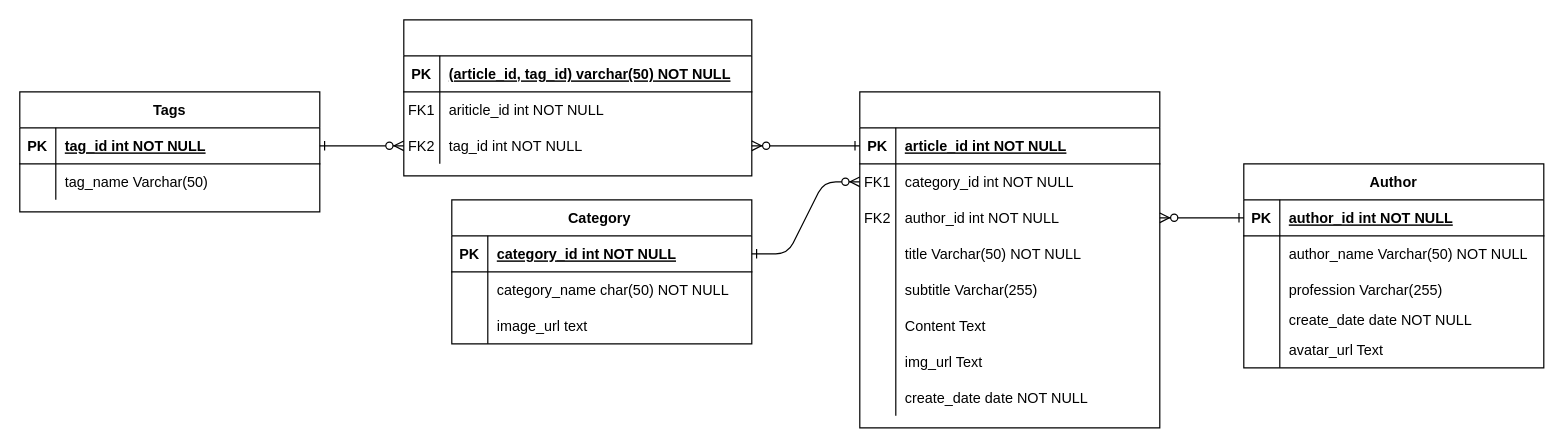
Some shapes in this 1564 by 448 pixel diagram are drawn without their labels. The shapes that lost their labels are listed below. From the top down, each one's box as (x1, y1, x2, y2) in pixels, then its label:
(403, 19, 752, 176): articles_tags
(859, 91, 1160, 428): Articles
